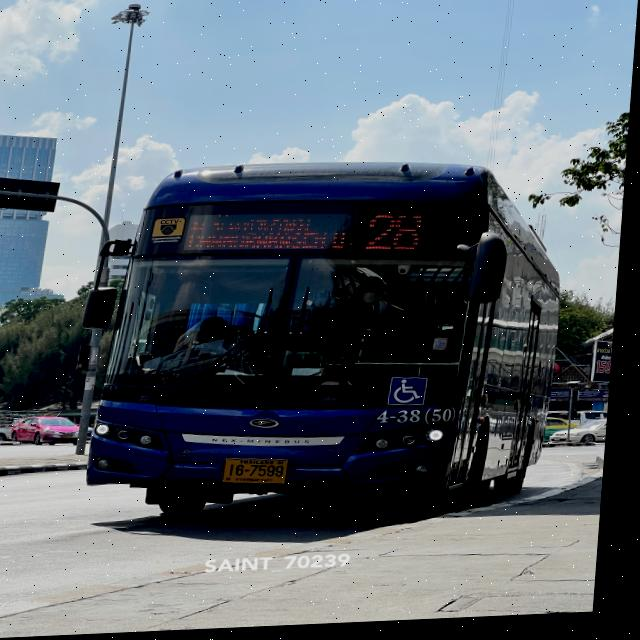BMTA-bus: (80, 154, 576, 530)
Bus-Line-Number: (362, 209, 438, 265)
Destination-Sign-Normal: (189, 208, 359, 276)
